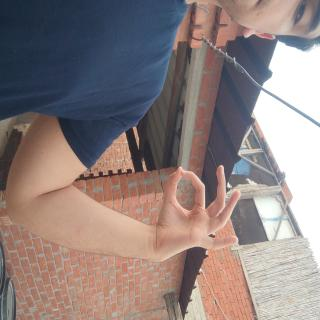Space: (118, 105, 199, 246)
